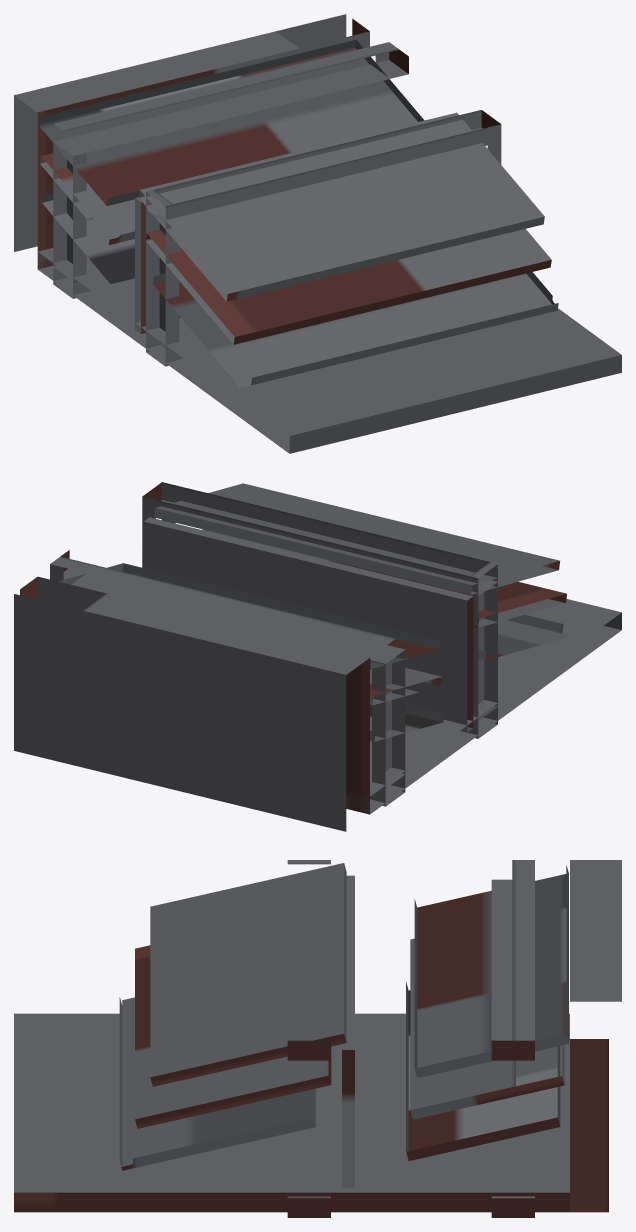
File: section-0.obj
3 views of the same model, one above another, from view 1: azimuth 30°, elevation 25°; view 2: azimuth 150°, elevation 25°; view 3: azimuth 270°, elevation 25° (orthographic). The views are drawn at different scales.
Bounding box in the file's own units: 0.985 × 0.45 × 1.4.
